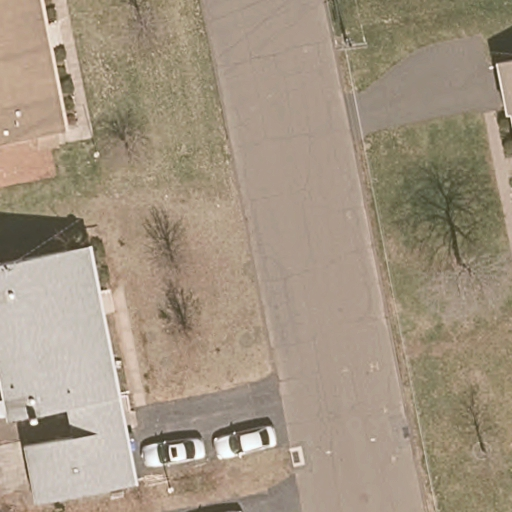DT: (334, 33, 367, 58)
